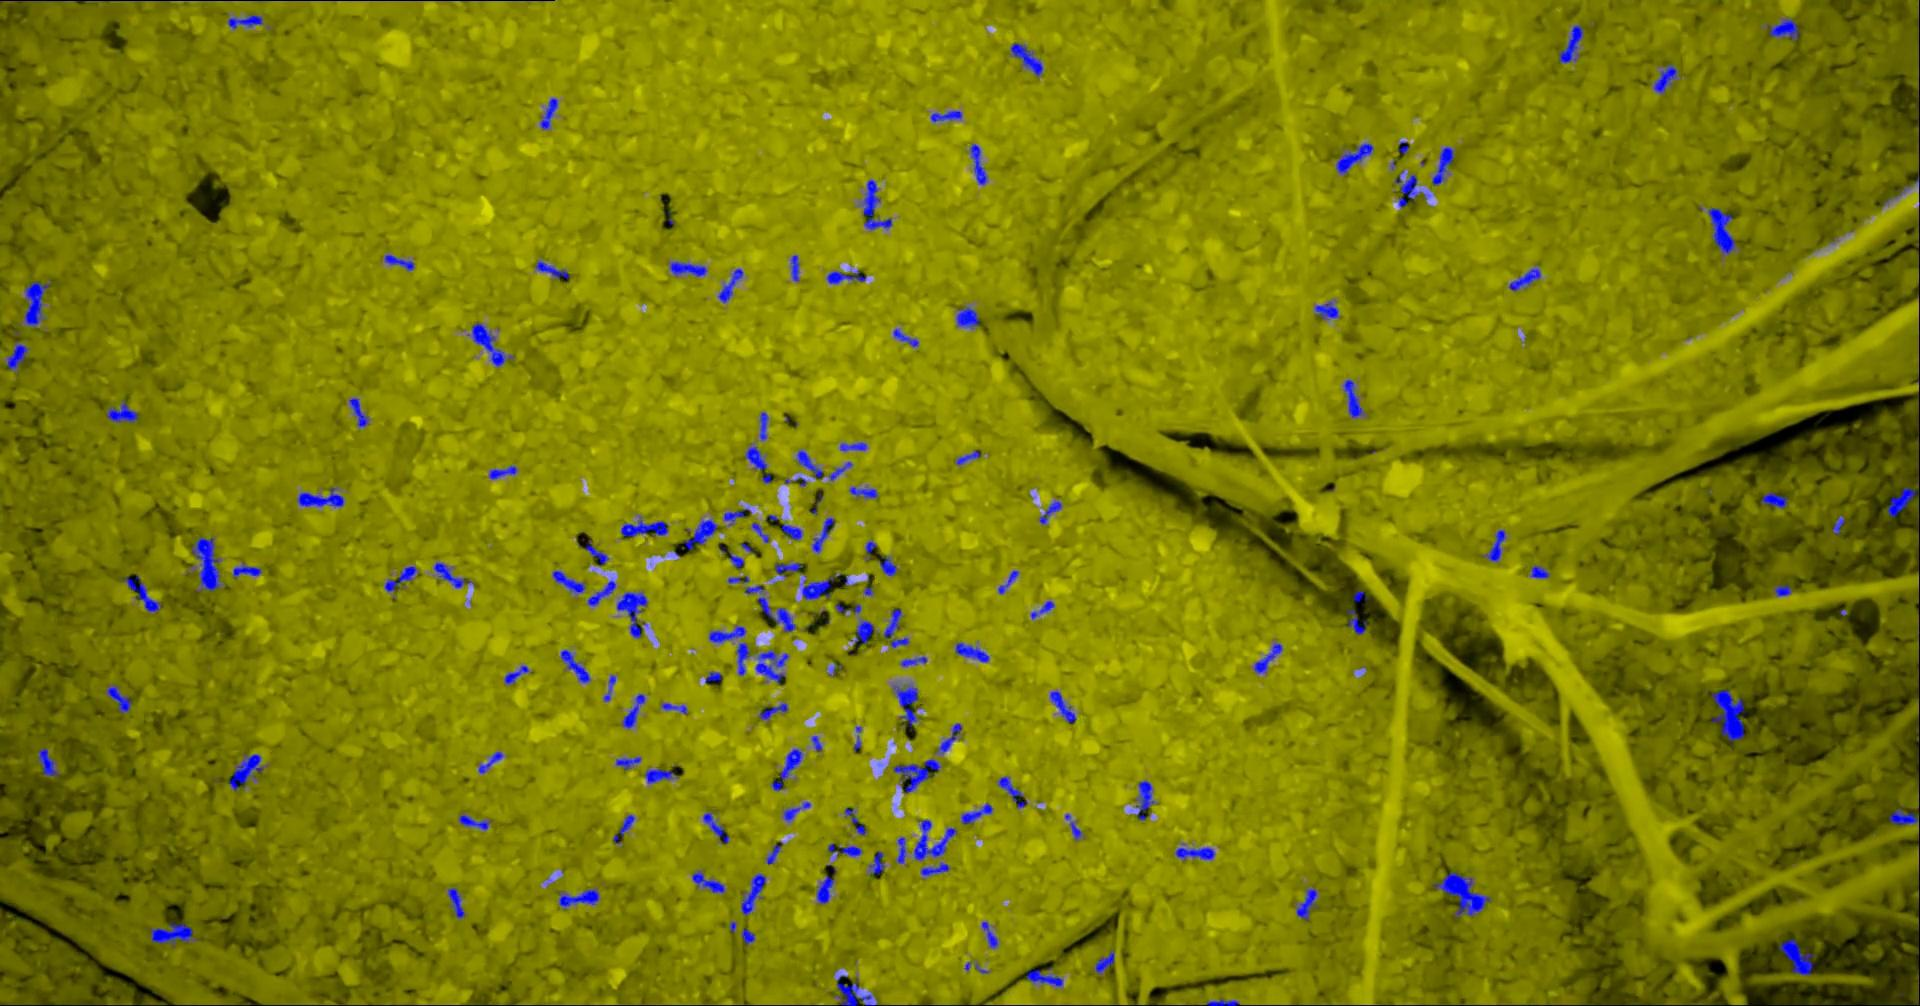ant: (467, 323, 513, 366), (1710, 688, 1745, 741), (796, 448, 852, 480), (913, 819, 956, 860), (893, 758, 941, 793), (858, 179, 891, 229), (190, 536, 220, 591), (119, 575, 161, 612), (616, 591, 648, 638), (770, 748, 803, 790), (1707, 207, 1736, 254), (757, 596, 795, 631), (1778, 937, 1813, 976), (833, 974, 877, 1005), (229, 753, 263, 791), (23, 281, 50, 326), (1335, 144, 1373, 175), (891, 683, 918, 728), (1393, 174, 1430, 206), (149, 921, 197, 945), (1010, 42, 1043, 76), (756, 649, 789, 683), (682, 520, 717, 550), (433, 561, 474, 588), (883, 608, 909, 647), (620, 514, 667, 536), (740, 873, 764, 915), (560, 649, 590, 682), (1558, 24, 1583, 64), (296, 486, 344, 507), (997, 776, 1027, 808), (557, 887, 599, 909), (1253, 641, 1283, 673), (1431, 146, 1454, 185), (717, 268, 743, 302), (383, 565, 418, 591), (1886, 486, 1915, 516), (1049, 690, 1076, 721), (1135, 780, 1156, 821), (811, 517, 834, 553), (1509, 264, 1540, 290), (936, 721, 961, 753), (702, 812, 728, 843), (1342, 379, 1363, 418), (5, 340, 29, 373), (1765, 17, 1799, 39), (622, 694, 645, 728), (801, 575, 833, 600), (105, 399, 138, 422), (1482, 528, 1505, 561), (552, 570, 585, 593), (1295, 887, 1318, 920), (1023, 967, 1063, 986), (815, 866, 836, 903), (105, 683, 131, 713), (960, 801, 992, 824), (969, 144, 987, 184), (954, 641, 989, 662), (691, 870, 724, 892), (1653, 64, 1677, 93), (1175, 842, 1214, 860), (535, 259, 569, 279), (587, 580, 615, 605), (584, 539, 608, 565), (843, 807, 866, 835), (348, 398, 370, 427), (37, 747, 58, 776), (612, 814, 634, 843), (538, 97, 557, 130), (825, 269, 866, 285), (709, 625, 745, 641), (719, 542, 743, 567), (477, 751, 503, 774), (1888, 807, 1919, 826), (669, 260, 706, 276), (1039, 500, 1062, 525), (851, 619, 872, 644), (783, 801, 810, 822), (447, 887, 463, 918), (227, 14, 262, 29), (383, 254, 414, 271), (735, 641, 750, 674), (458, 814, 491, 829), (503, 666, 531, 683), (956, 306, 978, 329), (744, 446, 766, 469), (997, 570, 1018, 593), (1347, 608, 1366, 634), (1095, 949, 1114, 974), (232, 561, 262, 578), (758, 702, 787, 719), (643, 768, 677, 782), (891, 328, 918, 345), (1064, 813, 1082, 840), (723, 508, 750, 525), (1030, 600, 1054, 619), (827, 843, 862, 856), (982, 921, 998, 948), (1314, 301, 1338, 319), (488, 464, 516, 479), (1761, 492, 1787, 508), (750, 521, 770, 542), (764, 841, 782, 864), (775, 561, 803, 575), (877, 555, 897, 575), (780, 523, 803, 540), (919, 862, 949, 875), (955, 448, 979, 464), (869, 850, 884, 874), (930, 111, 961, 122), (615, 756, 641, 768), (1914, 124, 1919, 191), (848, 486, 877, 498), (603, 674, 615, 701), (963, 962, 989, 973), (662, 702, 687, 714), (899, 655, 926, 666), (895, 836, 905, 862), (1204, 997, 1238, 1005), (1529, 565, 1549, 578), (759, 412, 768, 439), (836, 603, 860, 614), (1831, 514, 1844, 533), (1773, 583, 1792, 596), (839, 441, 866, 450), (790, 254, 799, 279), (742, 927, 754, 944), (865, 540, 876, 558), (703, 671, 721, 682), (853, 727, 861, 751), (744, 584, 764, 593), (1352, 589, 1368, 601), (728, 575, 749, 583), (811, 735, 822, 751), (0, 0, 63, 1), (1917, 14, 1919, 67)
